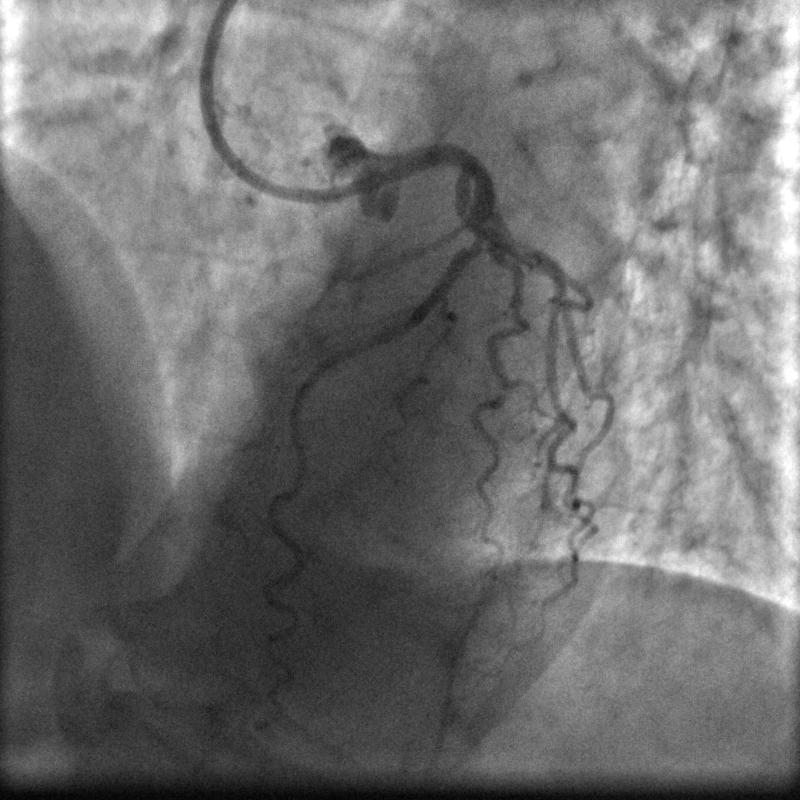Stenosis: (468, 227, 489, 257)
